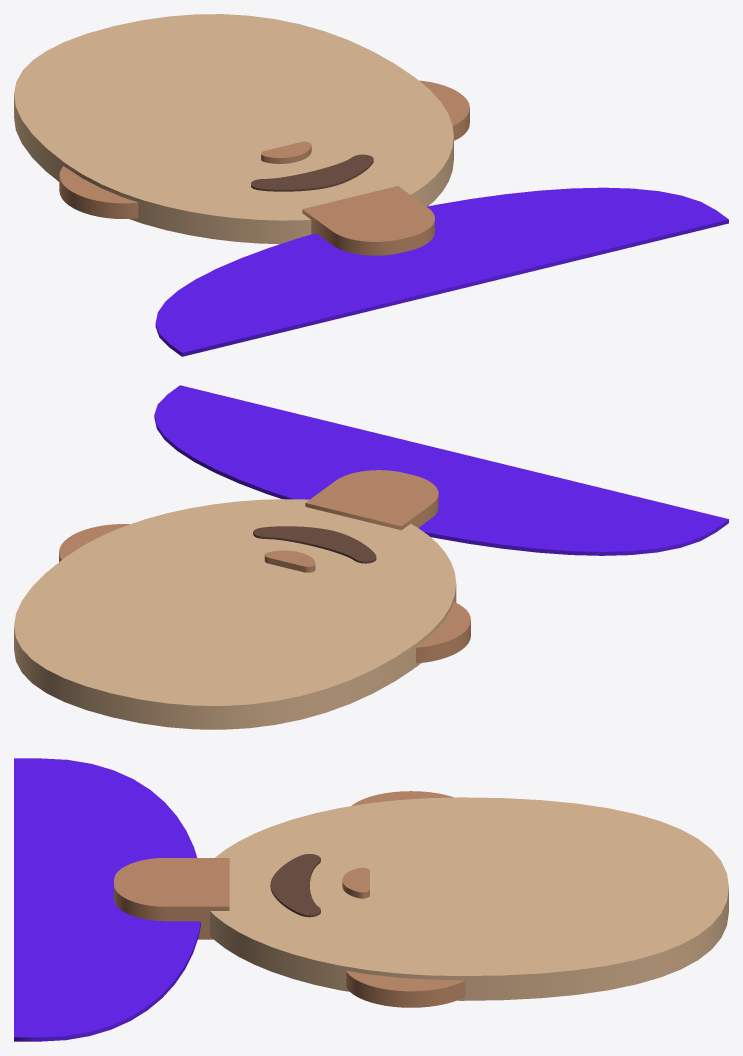
The model's file is emoji_u1f469_1f3fc_200d_1f9b2.glb.
The picture shows the model from 3 angles, top to bottom: view 1: azimuth 30°, elevation 25°; view 2: azimuth 150°, elevation 25°; view 3: azimuth 270°, elevation 25°; orthographic projection. The views are drawn at different scales.
Visible parts, largest first — view 1: emoji_u1f469_1f3fc_200d_1f9b2; view 2: emoji_u1f469_1f3fc_200d_1f9b2; view 3: emoji_u1f469_1f3fc_200d_1f9b2.
Boxes of the visible parts, x1,y1,x2,y2 form: emoji_u1f469_1f3fc_200d_1f9b2: (14, 14, 728, 356); emoji_u1f469_1f3fc_200d_1f9b2: (14, 385, 728, 729); emoji_u1f469_1f3fc_200d_1f9b2: (14, 758, 728, 1041).
Bounding box in the file's own units: 0.029 × 0.0018 × 0.0315.
